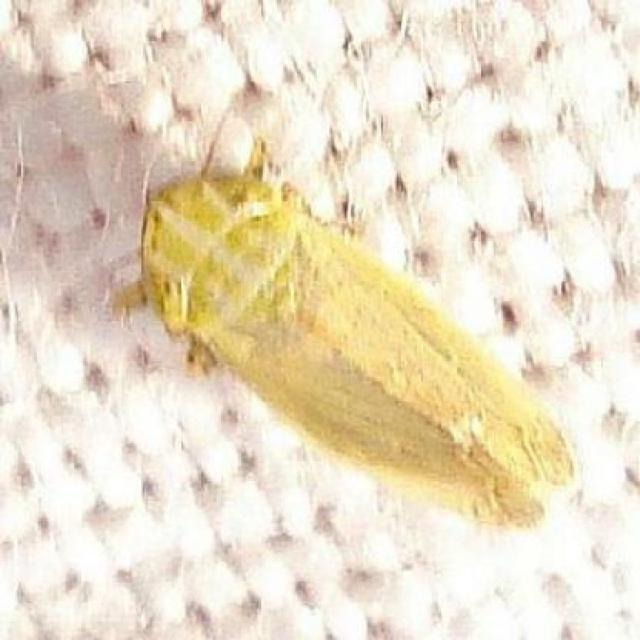green-leafhopper: (122, 142, 577, 535)
